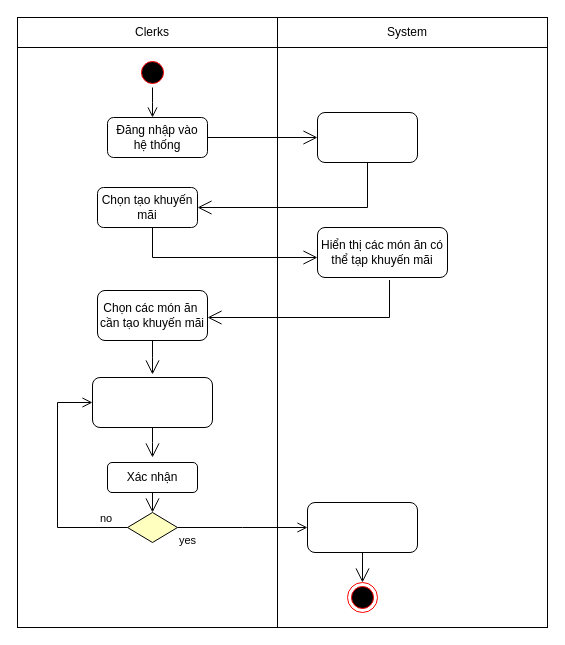
Some shapes in this 565 by 645 pixel diagram are drawn without their labels. The shapes that lost their labels are listed below. From the top down, each one's centre as x and y in pixels, then its label:
At point (367, 137): "Hiển thị trang quản lí của nhà hàng".
At point (152, 402): "Nhập phần trăm hoặc số tiền khuyến mãi".
At point (362, 527): "Cập nhật menu trên hệ thống".
